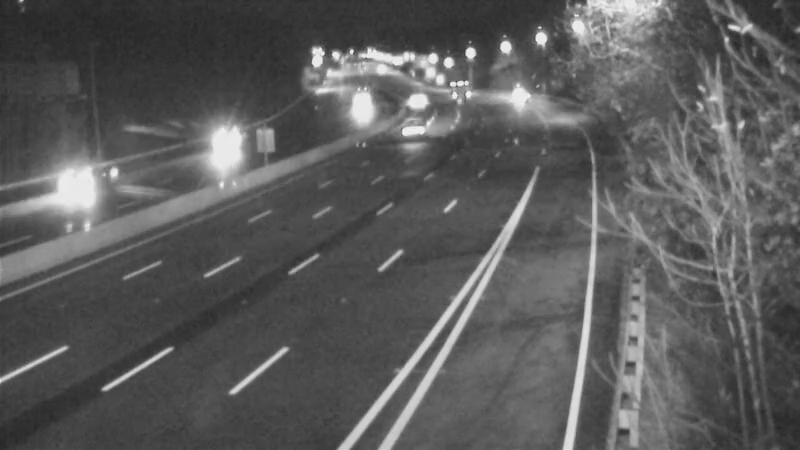vehicle: (39, 149, 119, 229), (487, 69, 537, 119), (430, 67, 480, 117), (389, 72, 439, 122), (393, 102, 443, 152), (201, 117, 251, 167), (337, 75, 387, 125)
